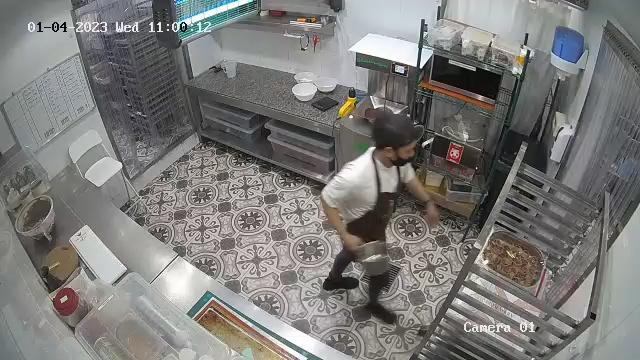apron: (351, 165, 411, 249)
